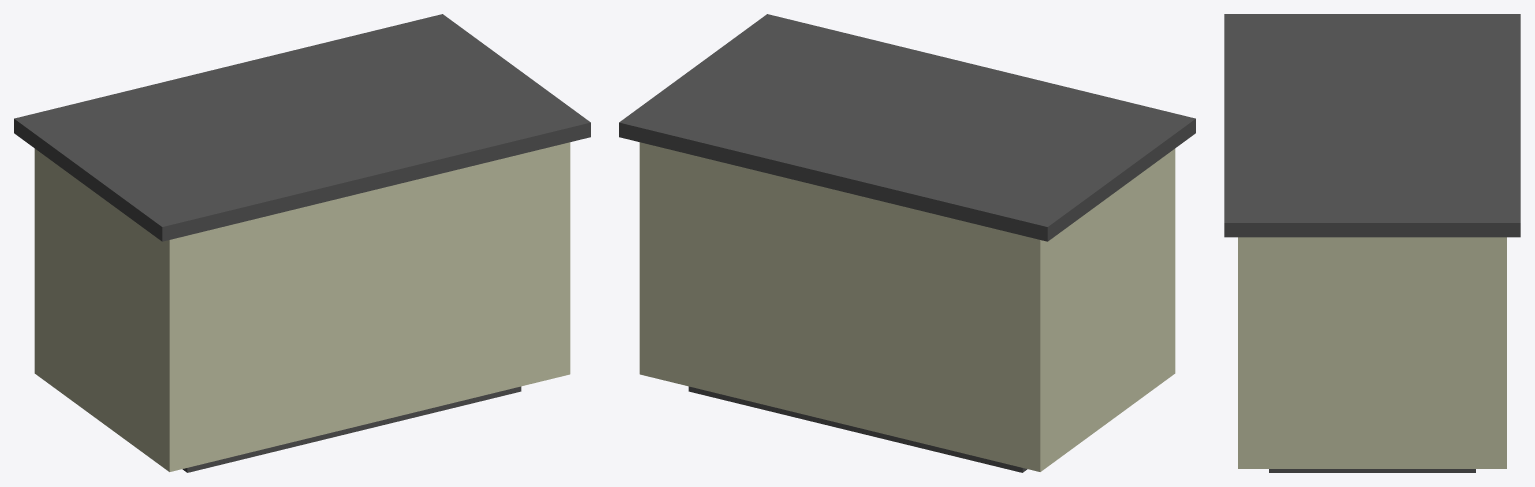
The model's file is tableClinic.fbx.
3 views of the same model, side by side, from view 1: azimuth 30°, elevation 25°; view 2: azimuth 150°, elevation 25°; view 3: azimuth 270°, elevation 25° (orthographic).
Visible parts, largest first — view 1: Plane; view 2: Plane; view 3: Plane.
Boxes of the visible parts, x1,y1,x2,y2 form: Plane: [14, 14, 590, 472]; Plane: [619, 14, 1195, 472]; Plane: [1224, 14, 1520, 472].
Size of the model in its own units: 378 by 231 by 227.
